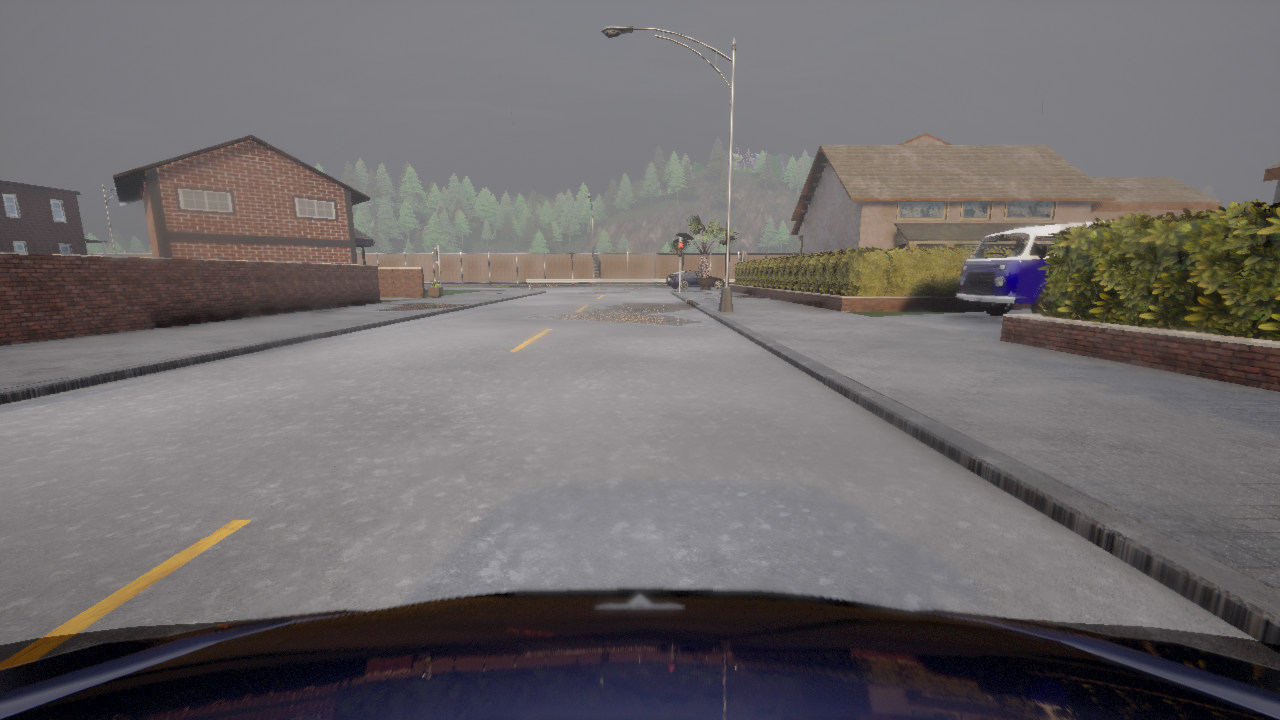cyclist: (0, 588, 1279, 719), (957, 222, 1092, 315), (666, 271, 724, 289)
